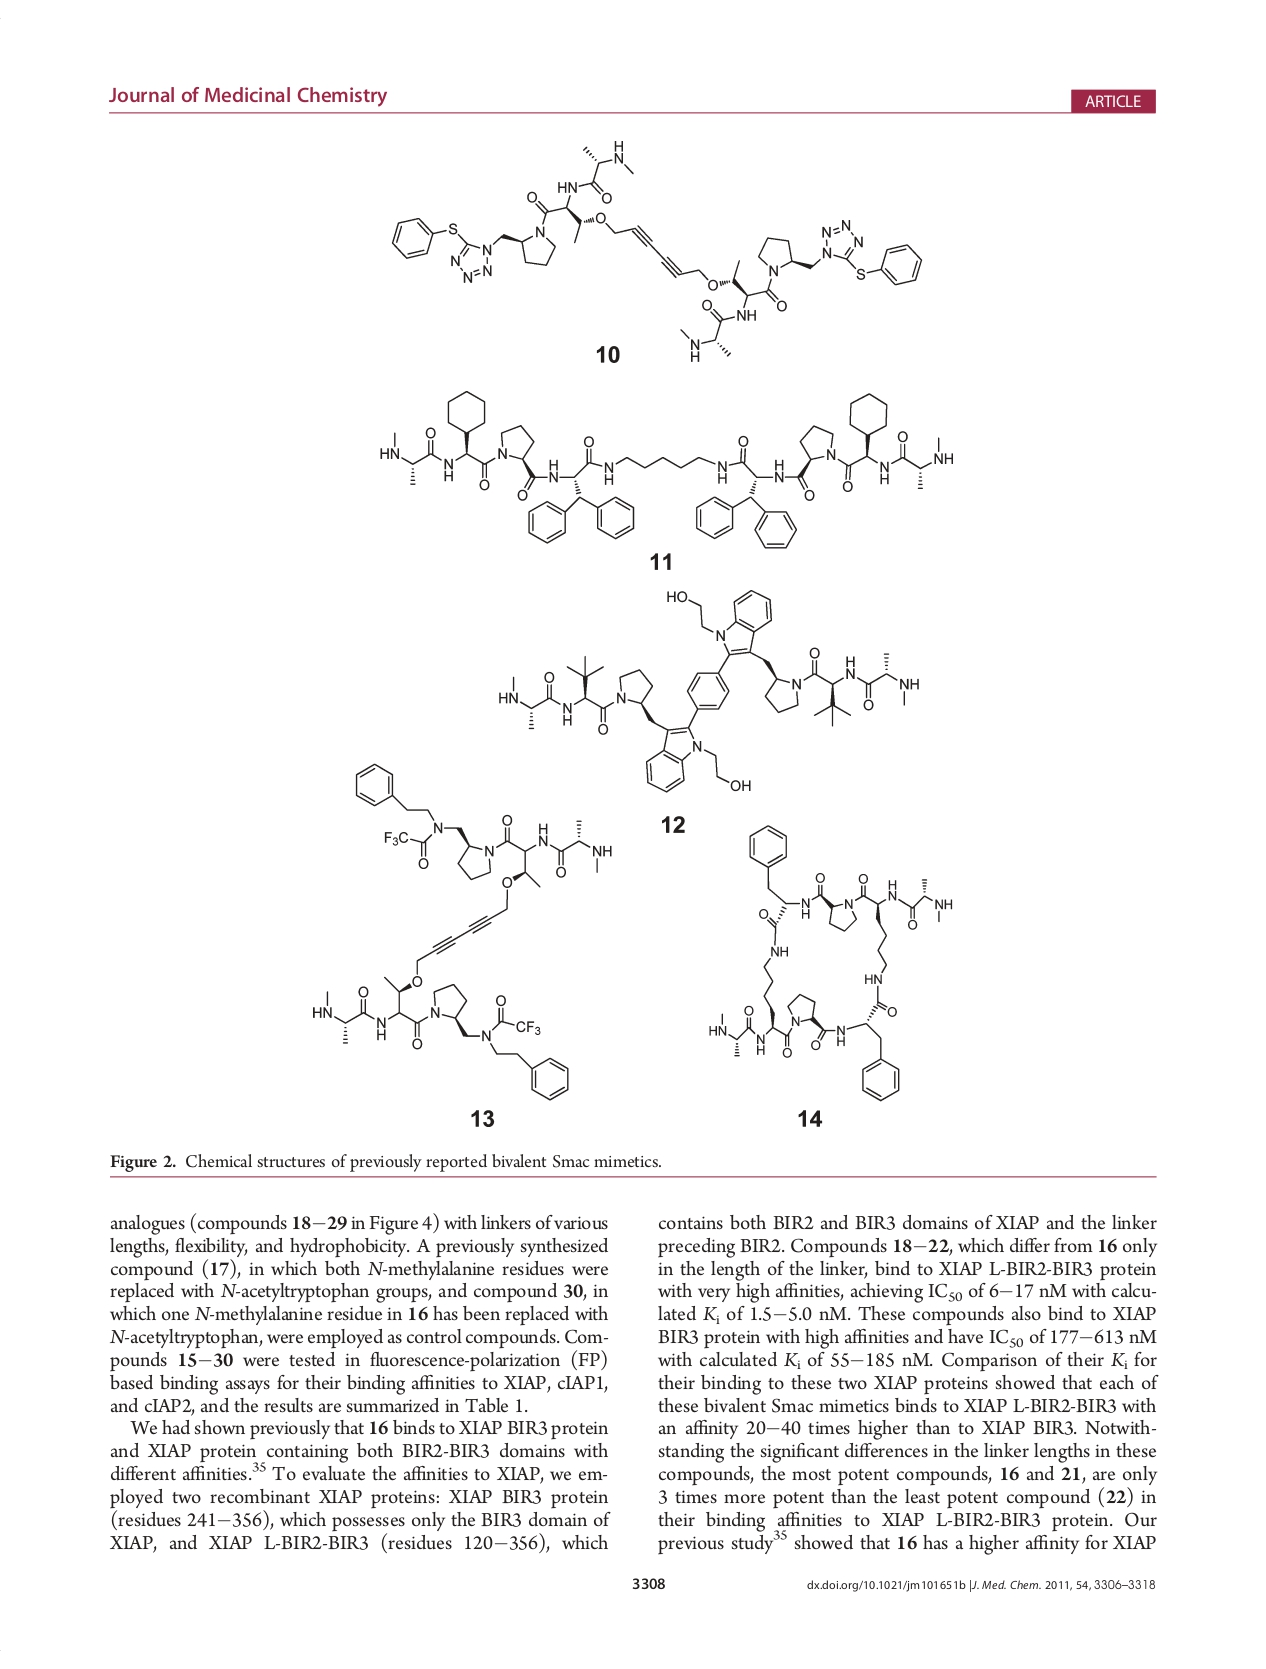exist_molecular: (386, 137, 924, 366), (309, 761, 617, 1102), (376, 388, 953, 552), (495, 585, 922, 797), (703, 821, 953, 1104)
